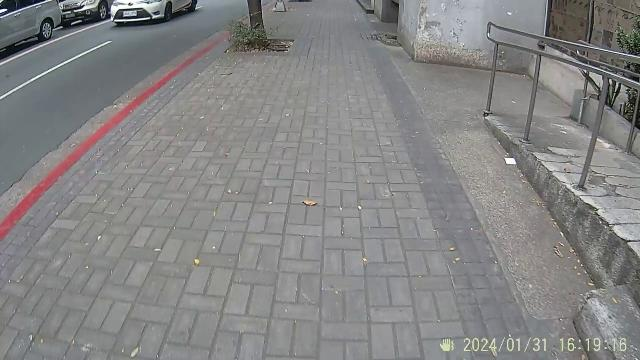car: (109, 0, 199, 22)
